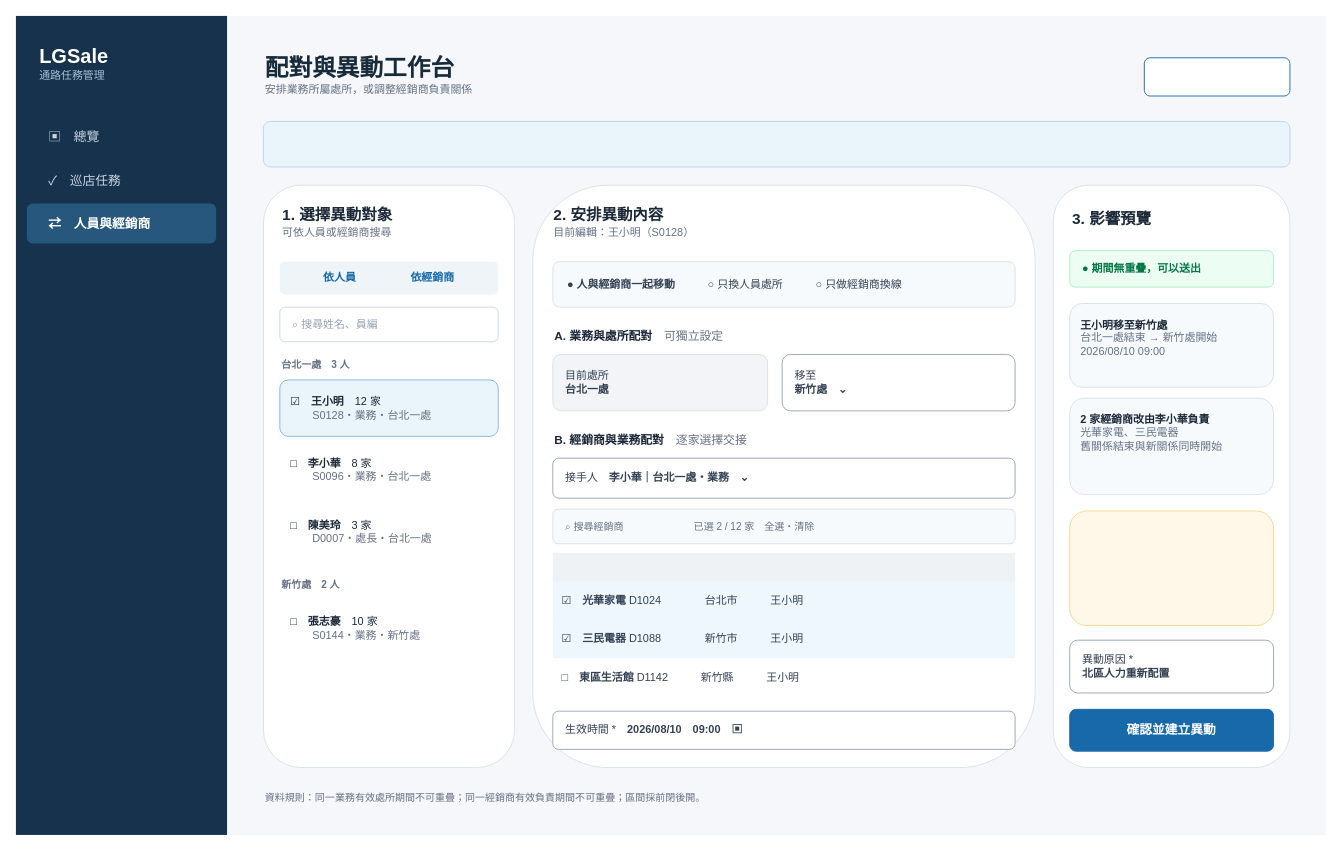
This 1341x850 diagram has some shape labels left out. Here are the shapes that lost their labels. From the top down, the centre of each, then its label:
the point at 1216,76: 查看異動紀錄
the point at 776,144: 配對原則 「業務換處所」與「經銷商換線」彼此獨立；需要一起移動時，請在同一張異動單中明確指定。歷史銷售與巡店歸屬不會被改寫。
the point at 783,566: 經銷商 區域 目前負責人
the point at 1171,568: 不會連動 王小明職級維持「業務」；未勾選的 10 家經銷商仍由王小明負責。歷史 Sales、巡店與任務執行快照不改寫。
